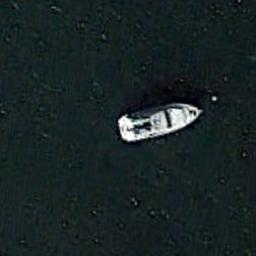boat: (116, 100, 205, 143)
